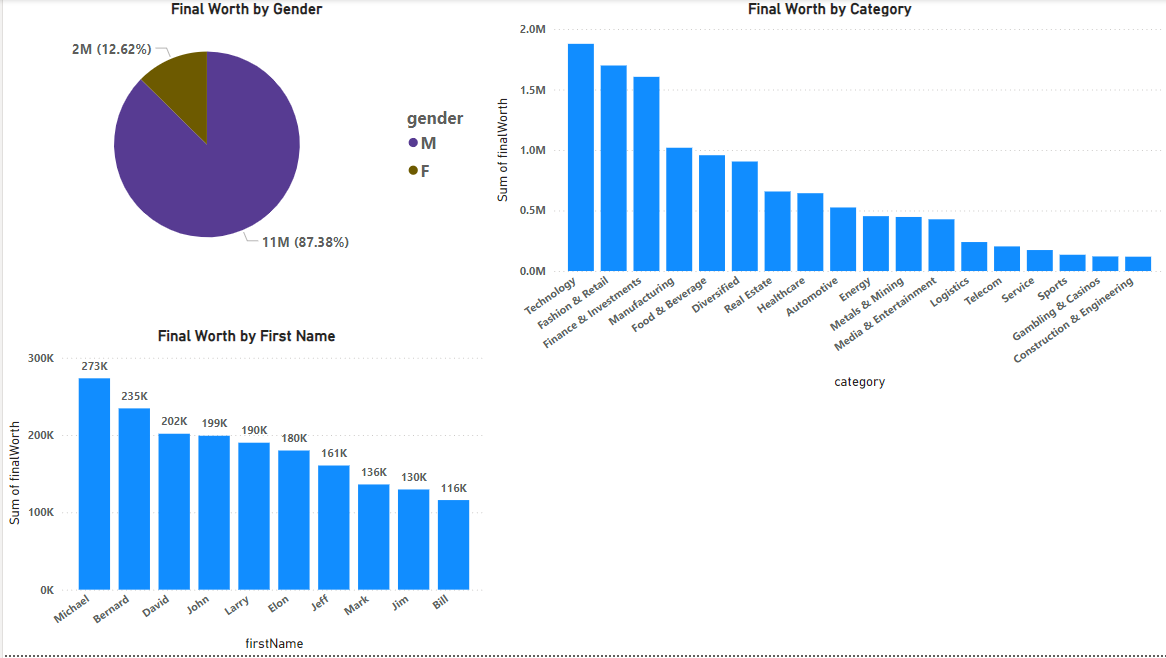

What the dashboard file says about the page in this screenshot:
{"tool":"powerbi","page":{"name":"Report 1","canvas":[1280,720],"ordinal":0},"visuals":[{"type":"pieChart","title":"Final Worth by Gender","fields":{"Category":["Billionaires Statistics Dataset.gender"],"Y":["Billionaires Statistics Dataset.finalWorth"]},"box":[0,0,535.2,300.5],"z":0},{"type":"lineStackedColumnComboChart","title":"Final Worth by Category","fields":{"Category":["Billionaires Statistics Dataset.category"],"Y":["Billionaires Statistics Dataset.finalWorth"]},"box":[535.2,0,745.1,433.6],"z":1000},{"type":"clusteredColumnChart","title":"Final Worth by First Name","fields":{"Category":["Billionaires Statistics Dataset.firstName"],"Y":["Billionaires Statistics Dataset.finalWorth"]},"box":[0,359.5,535.2,360.9],"z":2000}]}

Visuals, with their boxes in screenshot pixels (x1, y1, x2, y2), scaled from the page's 1280x720 canvas onto the 1166x658 screenshot:
"Final Worth by Gender" pieChart: (left=0, top=0, right=488, bottom=275)
"Final Worth by Category" lineStackedColumnComboChart: (left=488, top=0, right=1165, bottom=396)
"Final Worth by First Name" clusteredColumnChart: (left=0, top=329, right=488, bottom=657)
